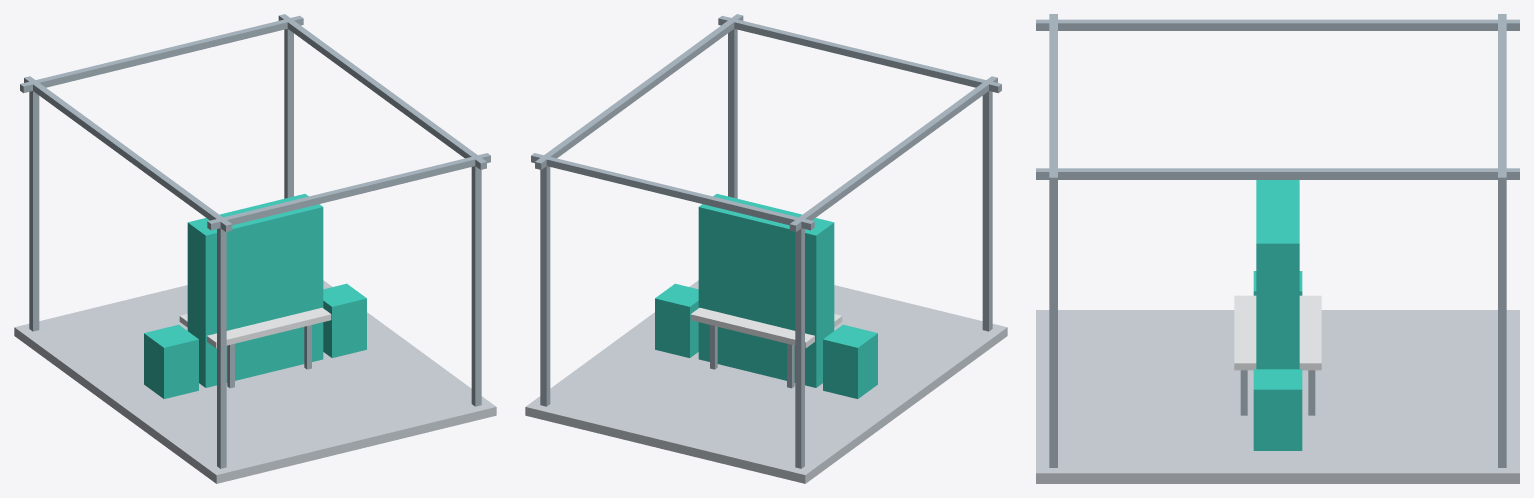
3 views of the same model, side by side, from view 1: azimuth 30°, elevation 25°; view 2: azimuth 150°, elevation 25°; view 3: azimuth 270°, elevation 25° (orthographic). The views are drawn at different scales.
Visible parts, largest first — view 1: Exhibition Booth Concept; view 2: Exhibition Booth Concept; view 3: Exhibition Booth Concept.
Part boxes in pixels (x1,y1,x2,y2): Exhibition Booth Concept: [14, 14, 496, 483]; Exhibition Booth Concept: [525, 14, 1007, 483]; Exhibition Booth Concept: [1036, 14, 1519, 483].
Size of the model in its own units: 4 by 3.49 by 5.
